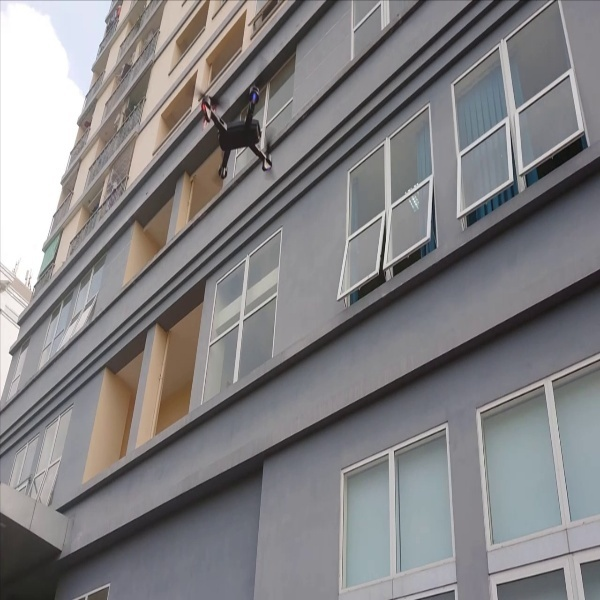drone: (192, 78, 283, 176)
